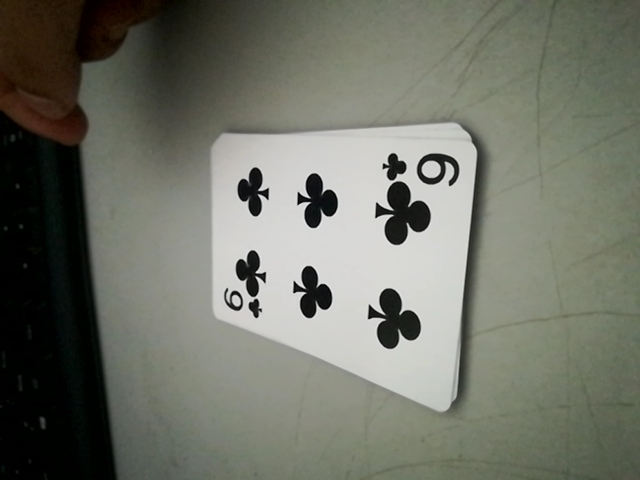mh 6: (383, 147, 462, 188), (215, 285, 262, 324)
